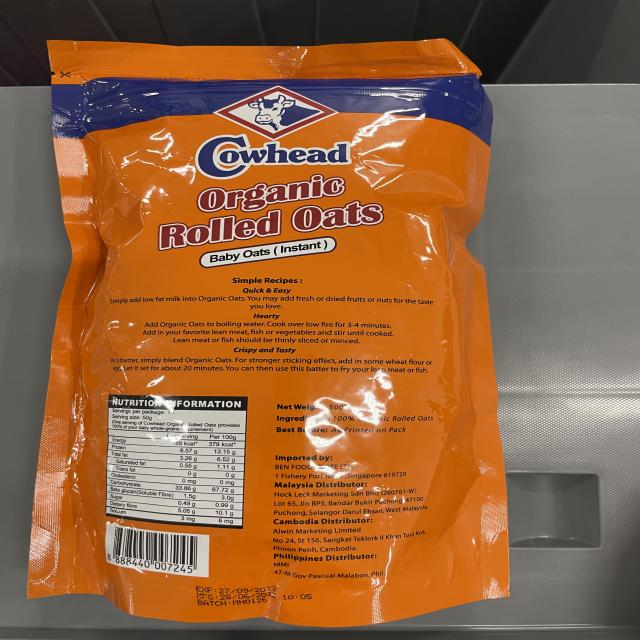object_name: (61, 41, 491, 607)
